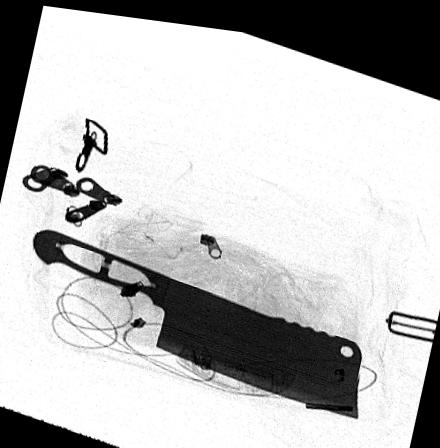Knife: (31, 227, 363, 410)
